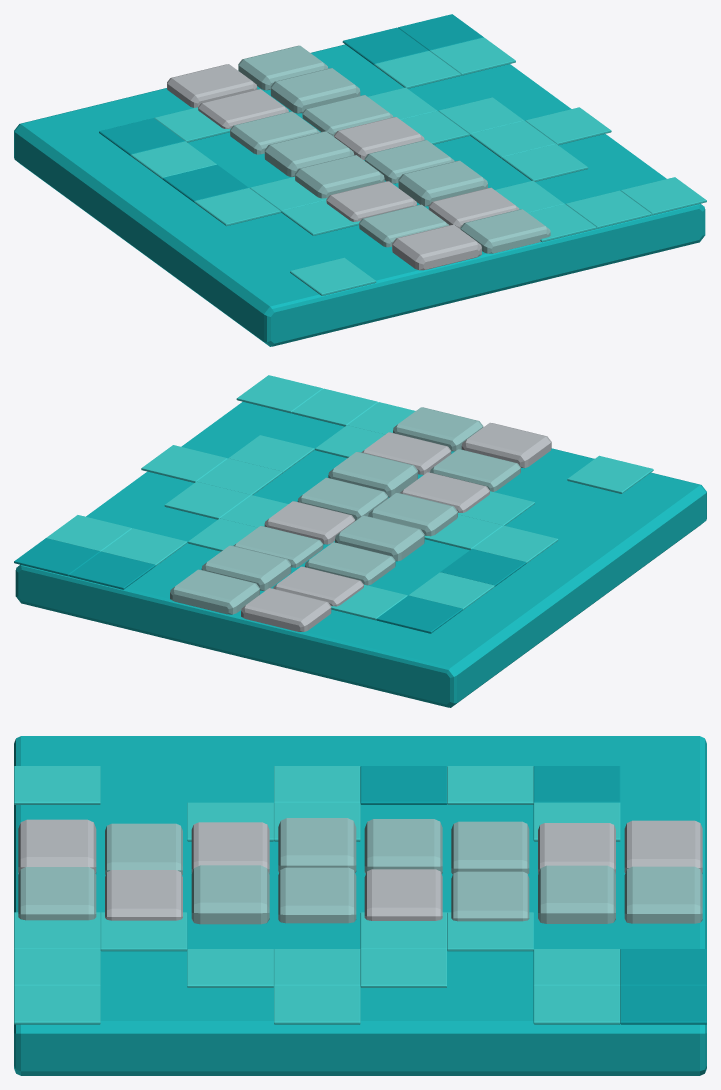
The model's file is DrownedVillage_Water_Path_Tile.glb.
3 views of the same model, one above another, from view 1: azimuth 30°, elevation 25°; view 2: azimuth 150°, elevation 25°; view 3: azimuth 270°, elevation 25° (orthographic). The views are drawn at different scales.
Parts seen in each view (by area): view 1: water_slab_01, path_stone_15, path_stone_04, path_stone_12, path_stone_16, path_stone_09, path_stone_01, path_stone_07, path_stone_02, path_stone_11, path_stone_08, path_stone_03 (+27 smaller); view 2: water_slab_01, path_stone_02, path_stone_01, path_stone_15, path_stone_07, path_stone_12, path_stone_04, path_stone_05, path_stone_16, path_stone_08, path_stone_09, path_stone_13 (+27 smaller); view 3: water_slab_01, path_stone_12, path_stone_04, path_stone_02, path_stone_10, path_stone_16, path_stone_08, path_stone_07, path_stone_05, path_stone_06, path_stone_14, path_stone_09 (+27 smaller).
Part boxes in pixels (x1,y1,x2,y2): water_slab_01: (14, 44, 705, 346); path_stone_15: (392, 224, 481, 270); path_stone_04: (270, 68, 360, 113); path_stone_12: (398, 160, 487, 206); path_stone_16: (460, 209, 550, 253); path_stone_09: (295, 155, 384, 198); path_stone_01: (167, 64, 257, 107); path_stone_07: (264, 131, 354, 176); path_stone_02: (238, 45, 328, 90); path_stone_11: (326, 181, 416, 221); path_stone_08: (334, 117, 424, 159); path_stone_03: (198, 89, 288, 128); water_slab_01: (15, 402, 706, 707); path_stone_02: (170, 569, 259, 614); path_stone_01: (241, 588, 331, 631); path_stone_15: (461, 422, 551, 468); path_stone_07: (335, 515, 424, 561); path_stone_12: (328, 452, 417, 497); path_stone_04: (201, 545, 291, 590); path_stone_05: (305, 542, 395, 585); path_stone_16: (393, 407, 483, 451); path_stone_08: (264, 501, 355, 544); path_stone_09: (368, 493, 457, 536); path_stone_13: (430, 449, 520, 491); water_slab_01: (14, 736, 706, 1075); path_stone_12: (191, 865, 269, 924); path_stone_04: (538, 865, 615, 923); path_stone_02: (624, 866, 702, 923); path_stone_10: (278, 867, 356, 923); path_stone_16: (18, 867, 96, 920); path_stone_08: (364, 869, 442, 920); path_stone_07: (364, 819, 442, 873); path_stone_05: (451, 821, 529, 874); path_stone_06: (451, 871, 529, 921); path_stone_14: (105, 870, 182, 920); path_stone_09: (278, 818, 356, 872).
Bounding box in the file's own units: 4 × 0.4669 × 4.
